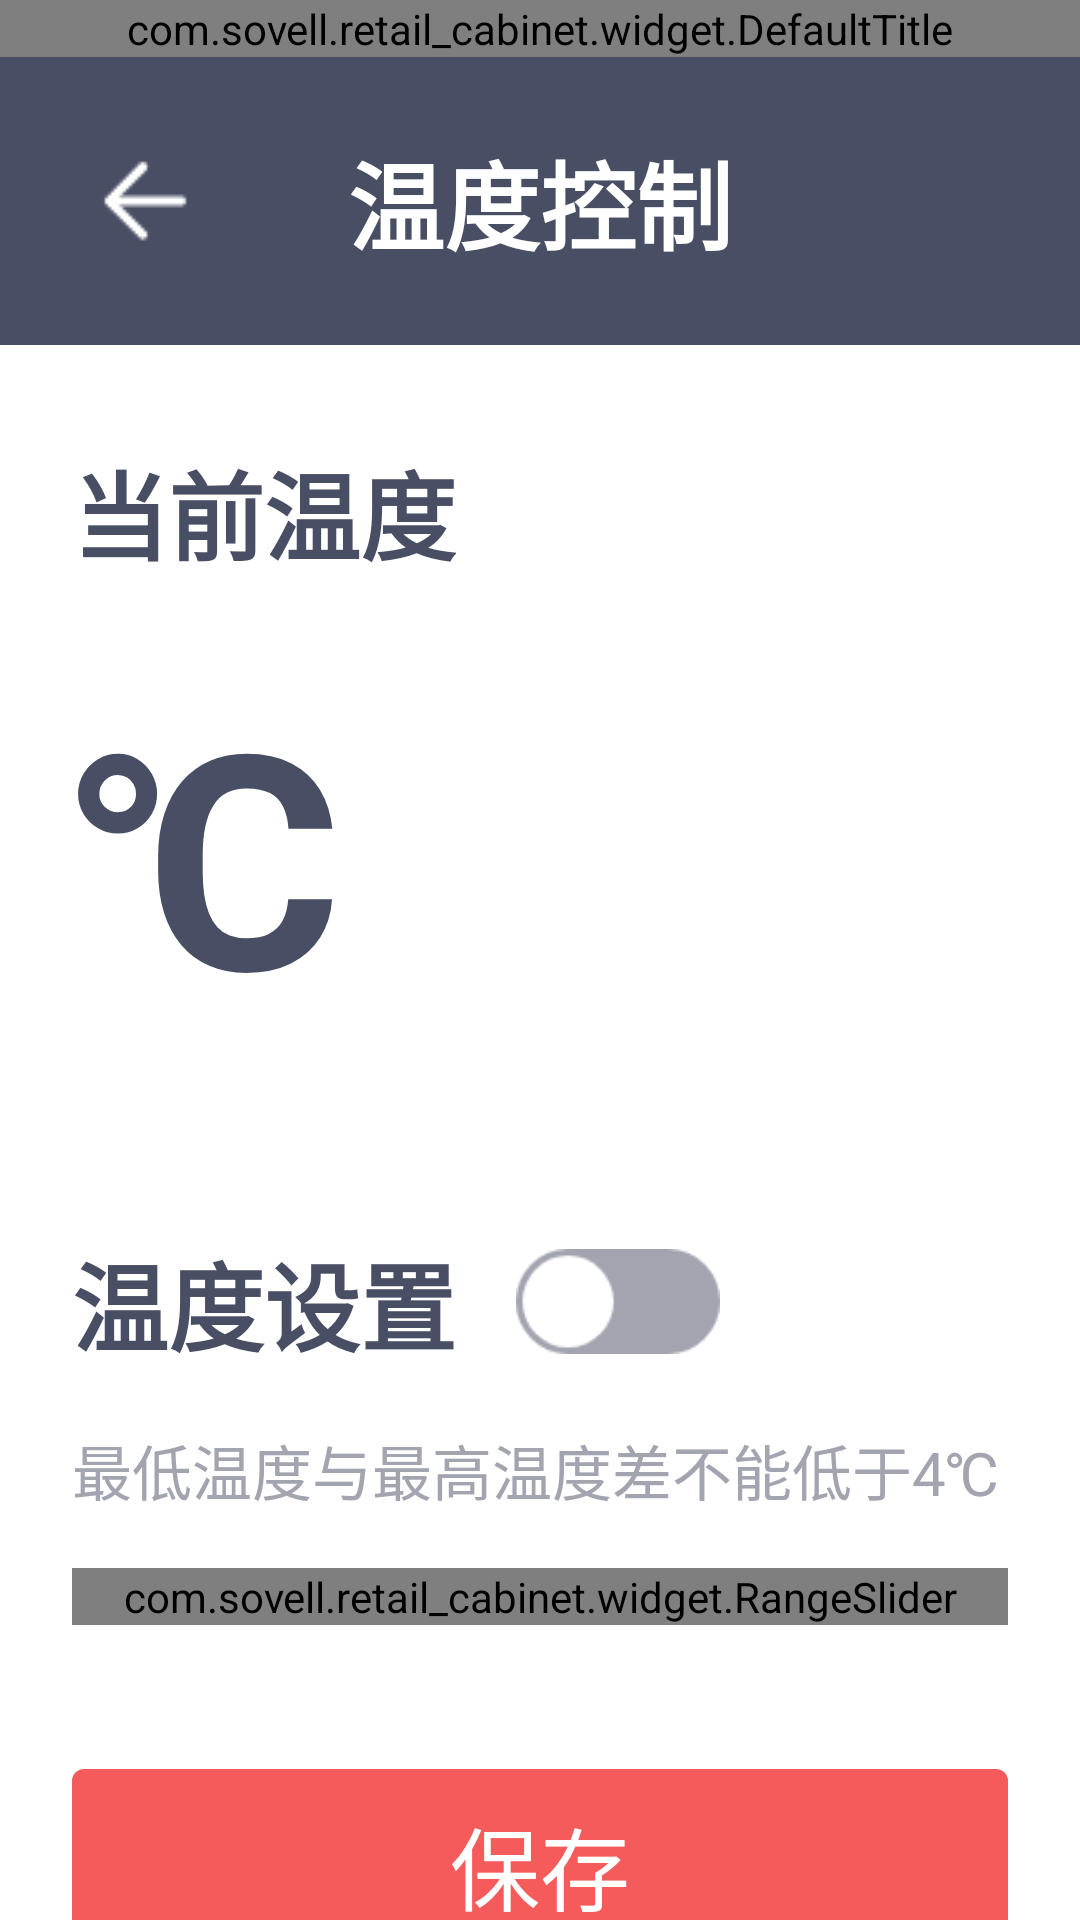

Where to tap for icons on this 1080*1920 app screen, as [x,y]:
back: [145,201]
